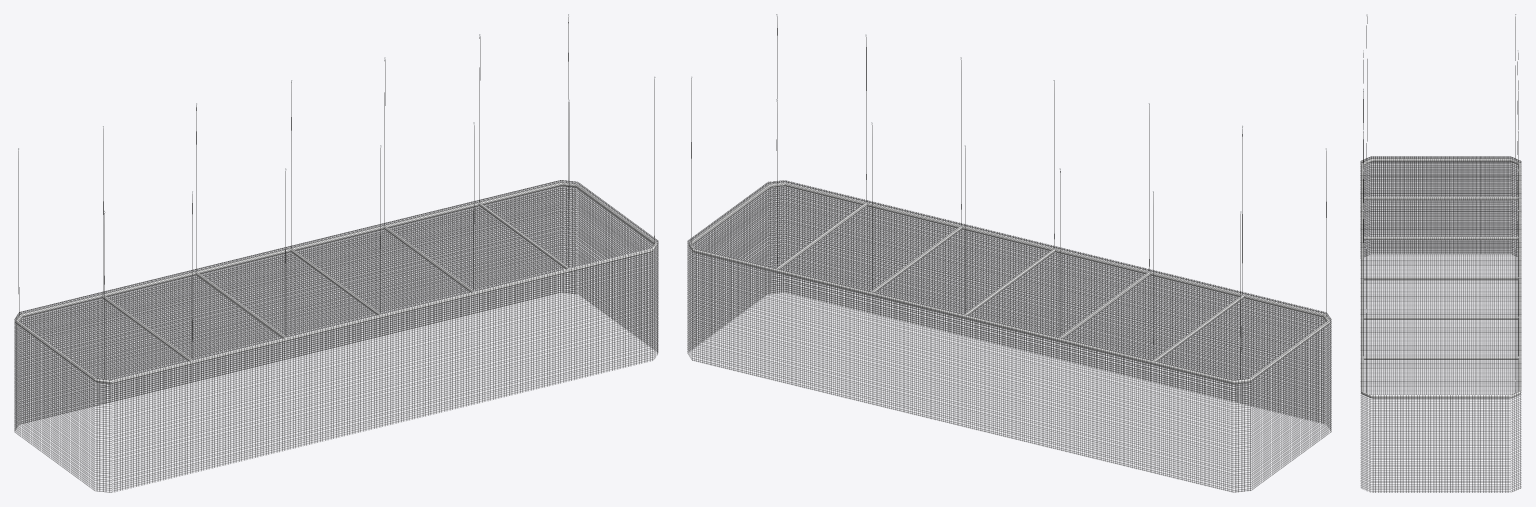
The model's file is Air Cage.glb.
3 renders of one model, left to right at view 1: azimuth 30°, elevation 25°; view 2: azimuth 150°, elevation 25°; view 3: azimuth 270°, elevation 25°, orthographic. The views are drawn at different scales.
Parts seen in each view (by area): view 1: Plane.003, Plane.002; view 2: Plane.003, Plane.002; view 3: Plane.003, Plane.002.
Boxes of the visible parts, bbox=[...] form: Plane.003: bbox=[14, 180, 658, 492]; Plane.002: bbox=[15, 14, 657, 383]; Plane.003: bbox=[687, 180, 1331, 492]; Plane.002: bbox=[688, 14, 1329, 383]; Plane.003: bbox=[1360, 156, 1521, 492]; Plane.002: bbox=[1361, 14, 1521, 398].
Bounding box in the file's own units: 21.02 × 9.99 × 6.
4 materials, 1 textured.
